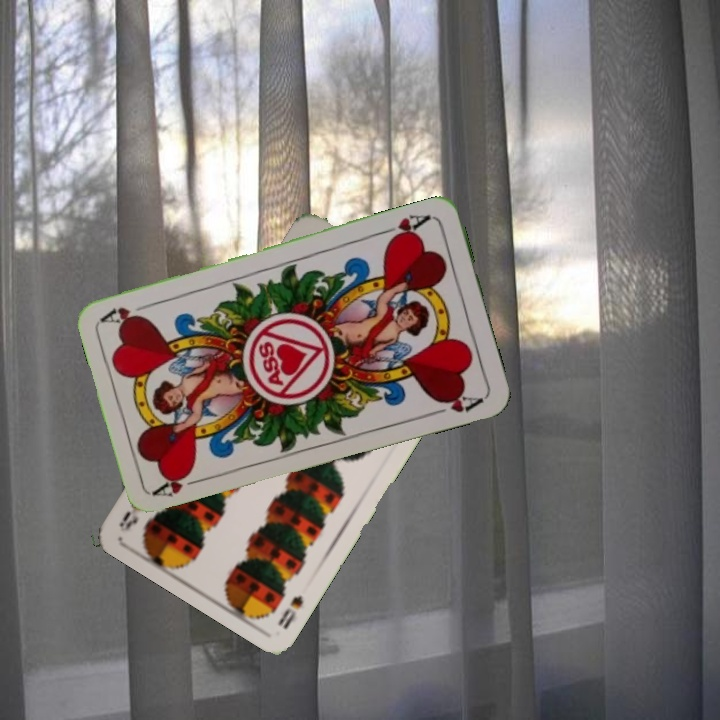HA: (149, 464, 207, 500), (377, 210, 435, 245)
S8: (274, 591, 306, 632)
